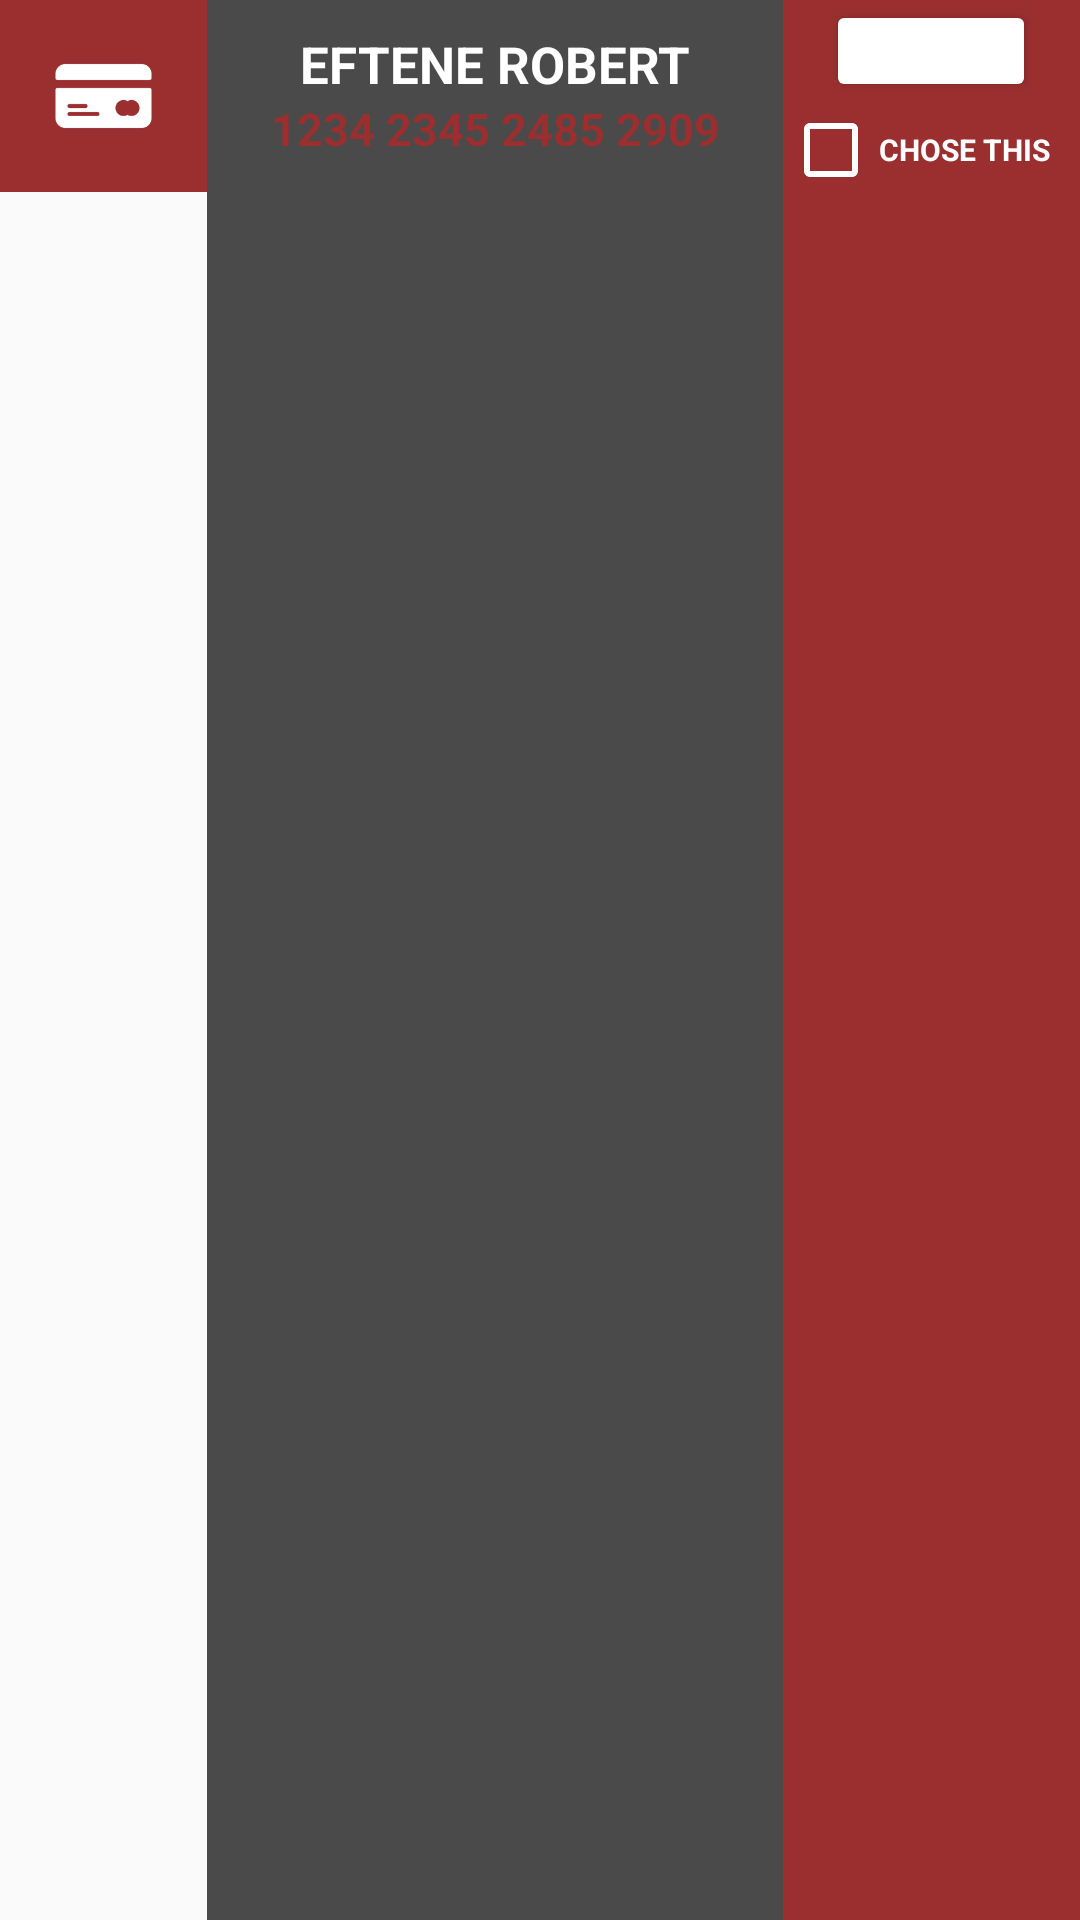

Where to tap for icons on this 1080x1920 app screen, as (x,y):
card bigger: (103,96)
